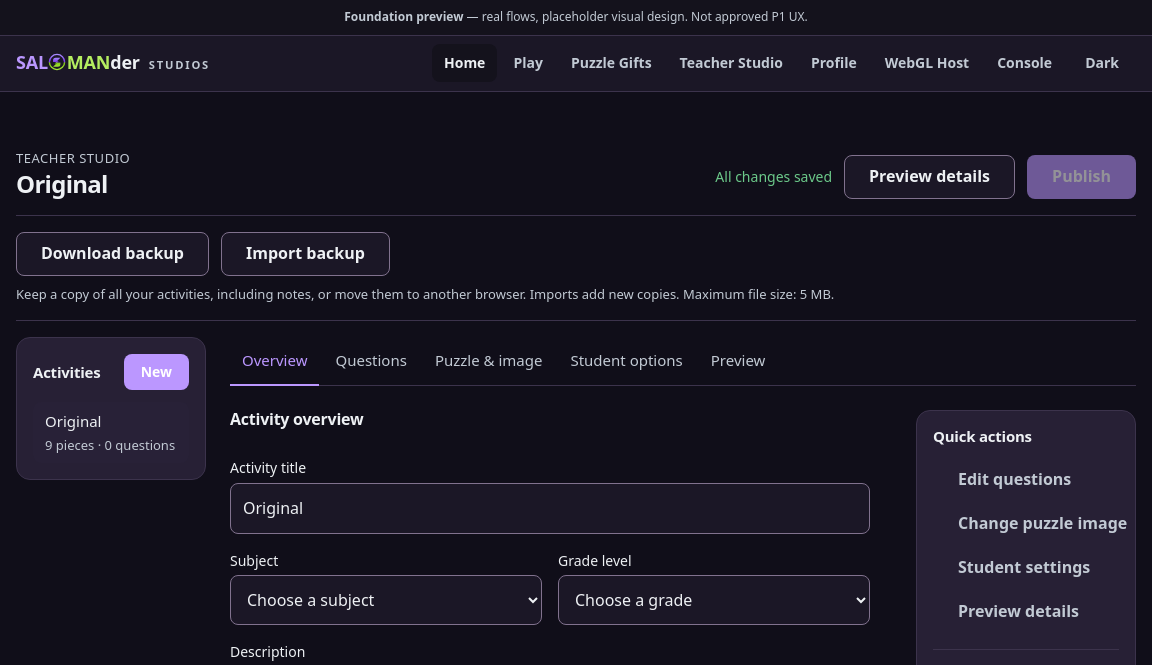
Test: reports failed storage honestly and retries without losing the edit
Replace the text in the field labelled "Activity title" with "Keep this edit" at (550, 508), box [230,483,870,534]
Wait 600 ms
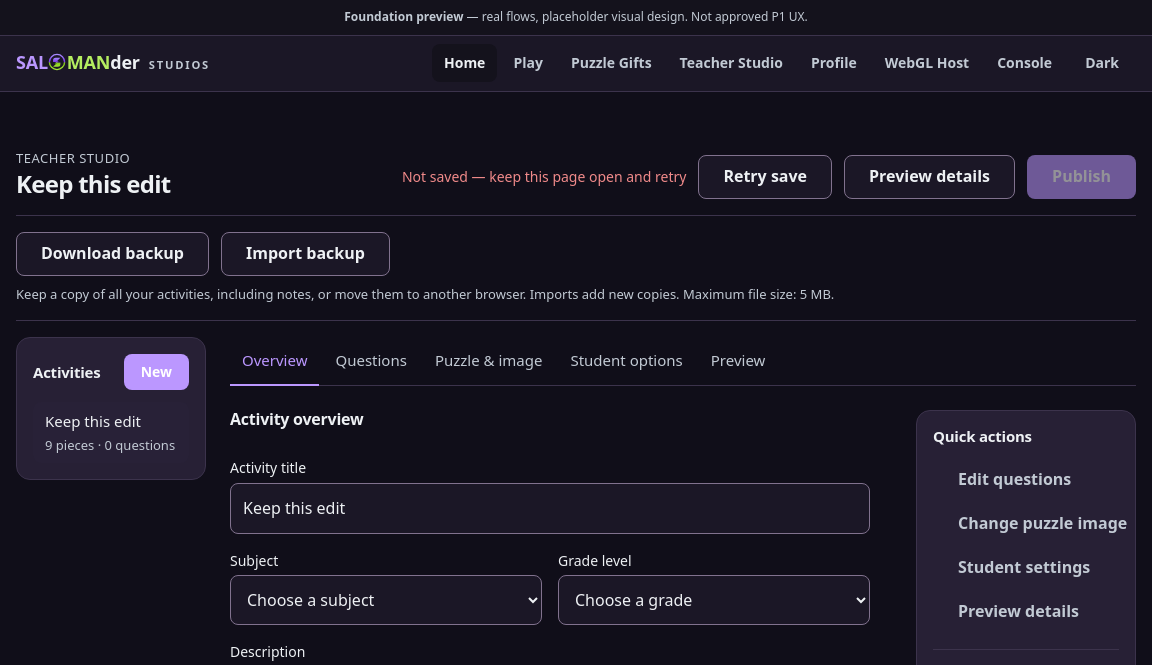
Result: the message shows "Not saved" at [402,167,686,186]
Click the button "Retry save".
click(765, 176)  # box [698,154,832,198]
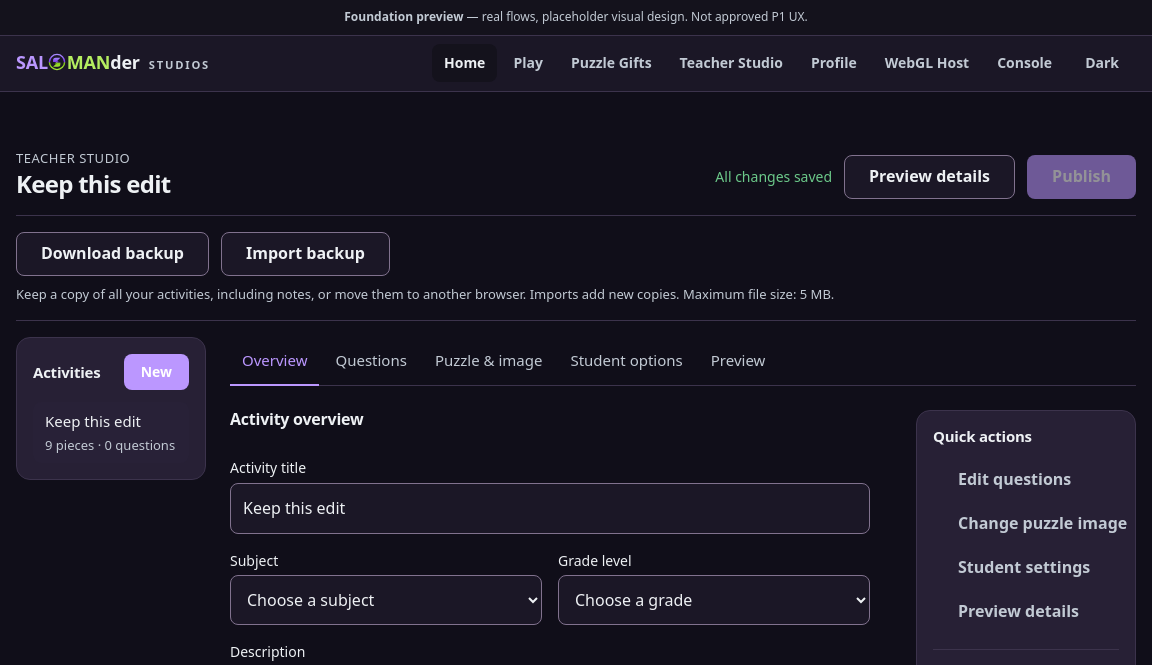
Result: the heading "Keep this edit" is shown at [16,170,170,198]
Result: the message reads "All changes saved" at [715,167,832,186]
